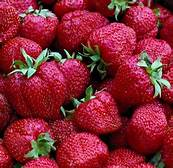Fresa: (5, 59, 68, 124), (86, 20, 138, 77), (3, 114, 57, 167), (71, 87, 126, 137), (123, 97, 170, 155), (110, 53, 159, 107), (54, 129, 111, 168), (1, 35, 47, 75), (20, 8, 60, 52)
